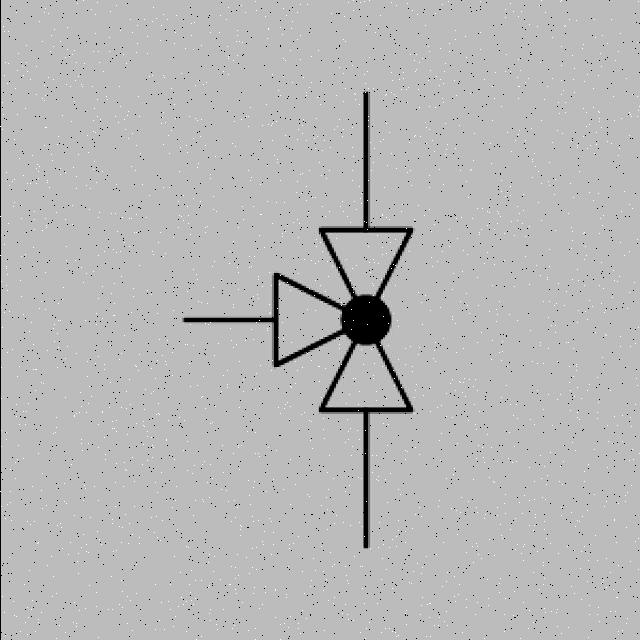3 Way Globe Valve: (190, 151, 460, 459)
